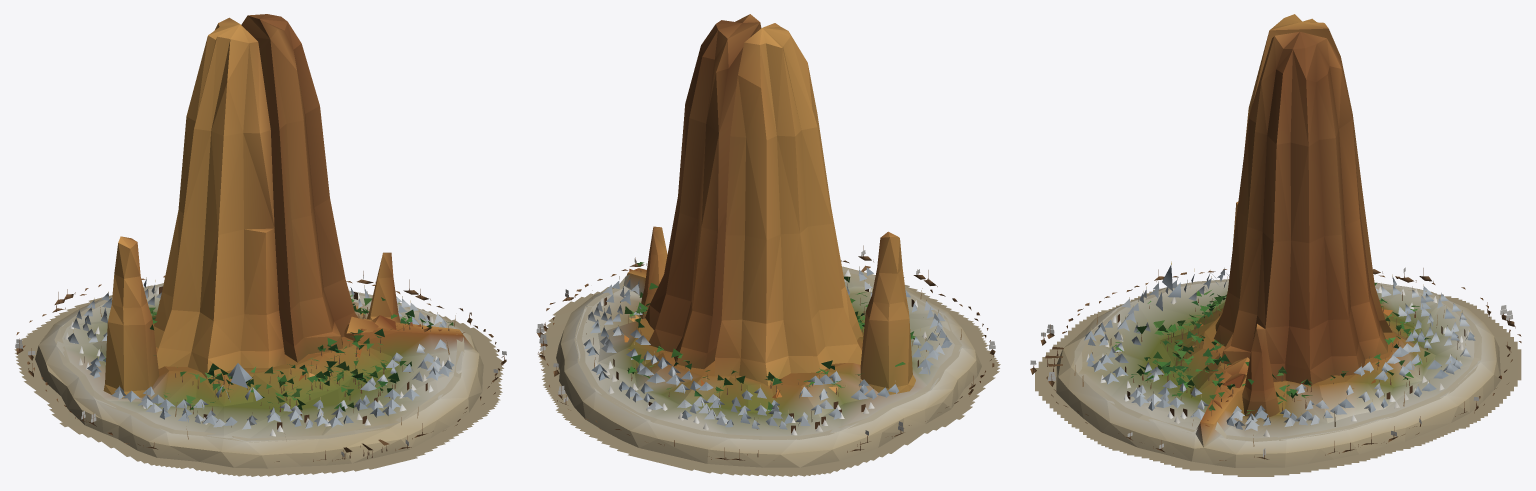
3 views of the same model, side by side, from view 1: azimuth 30°, elevation 25°; view 2: azimuth 150°, elevation 25°; view 3: azimuth 270°, elevation 25° (orthographic).
Visible parts, largest first — view 1: BASE, VILLE_2, VILLE_3; view 2: BASE, VILLE_2, VILLE_3; view 3: BASE, VILLE_2, VILLE_3.
Part boxes in pixels (x1,y1,x2,y2): BASE: (14, 14, 506, 476); VILLE_2: (15, 271, 443, 401); VILLE_3: (102, 292, 424, 414); BASE: (538, 14, 1000, 476); VILLE_2: (536, 304, 925, 460); VILLE_3: (612, 277, 921, 415); BASE: (1030, 14, 1521, 476); VILLE_2: (1295, 267, 1521, 455); VILLE_3: (1115, 285, 1439, 417).
Bounding box in the file's own units: 64 × 52.02 × 66.79.
